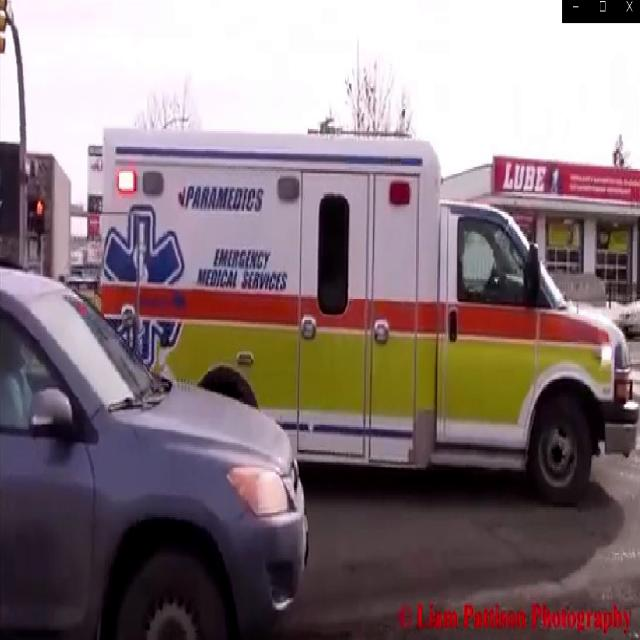emergency: (93, 127, 640, 527)
